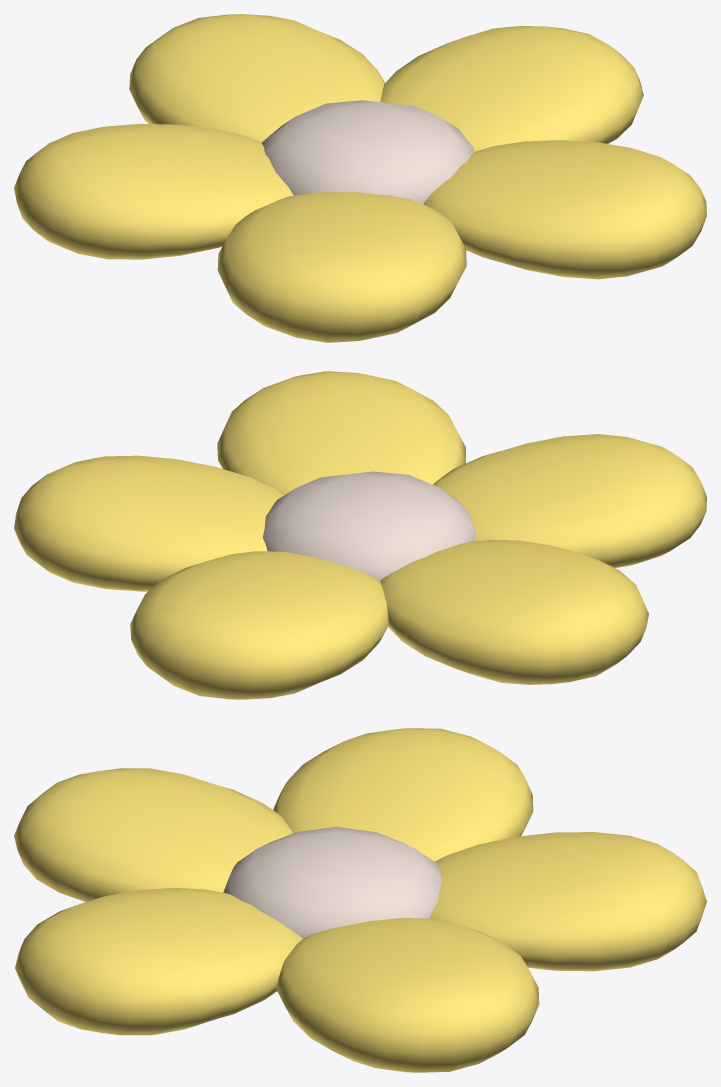
The model's file is Pillow_flower_1.glb.
3 views of the same model, one above another, from view 1: azimuth 30°, elevation 25°; view 2: azimuth 150°, elevation 25°; view 3: azimuth 270°, elevation 25° (orthographic). The views are drawn at different scales.
Parts seen in each view (by area): view 1: Pillow_flower_1; view 2: Pillow_flower_1; view 3: Pillow_flower_1.
Part boxes in pixels (x1=…): Pillow_flower_1: x1=14, y1=14, x2=706, y2=342; Pillow_flower_1: x1=14, y1=371, x2=706, y2=699; Pillow_flower_1: x1=14, y1=728, x2=706, y2=1072.
Bounding box in the file's own units: 0.6429 × 0.0973 × 0.6211.
Materials: 1 (1 with a texture image).
